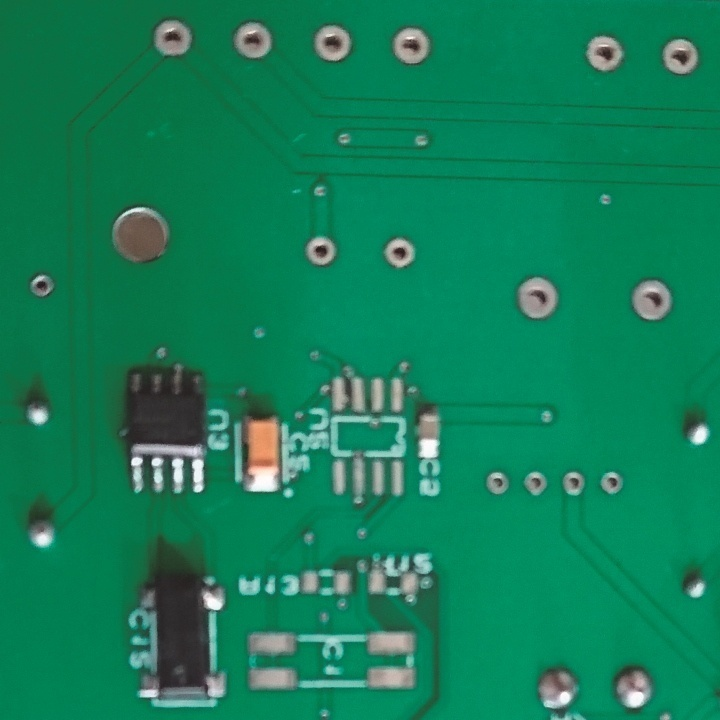F: (514, 274, 561, 322), (627, 279, 674, 325), (231, 17, 276, 65), (310, 20, 356, 66), (390, 23, 434, 69), (150, 18, 195, 61), (582, 32, 627, 72), (660, 35, 699, 79), (304, 233, 340, 266), (384, 235, 417, 270), (483, 469, 512, 497), (28, 272, 57, 300), (521, 469, 548, 498), (561, 469, 586, 498), (601, 469, 624, 497)
